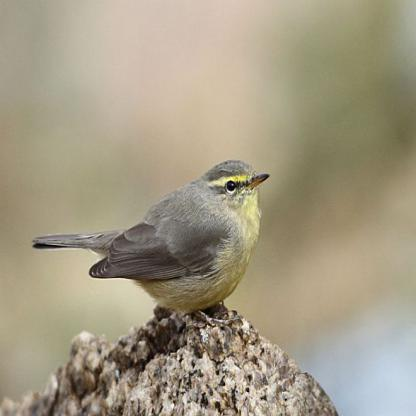Burung: (32, 156, 280, 336)
